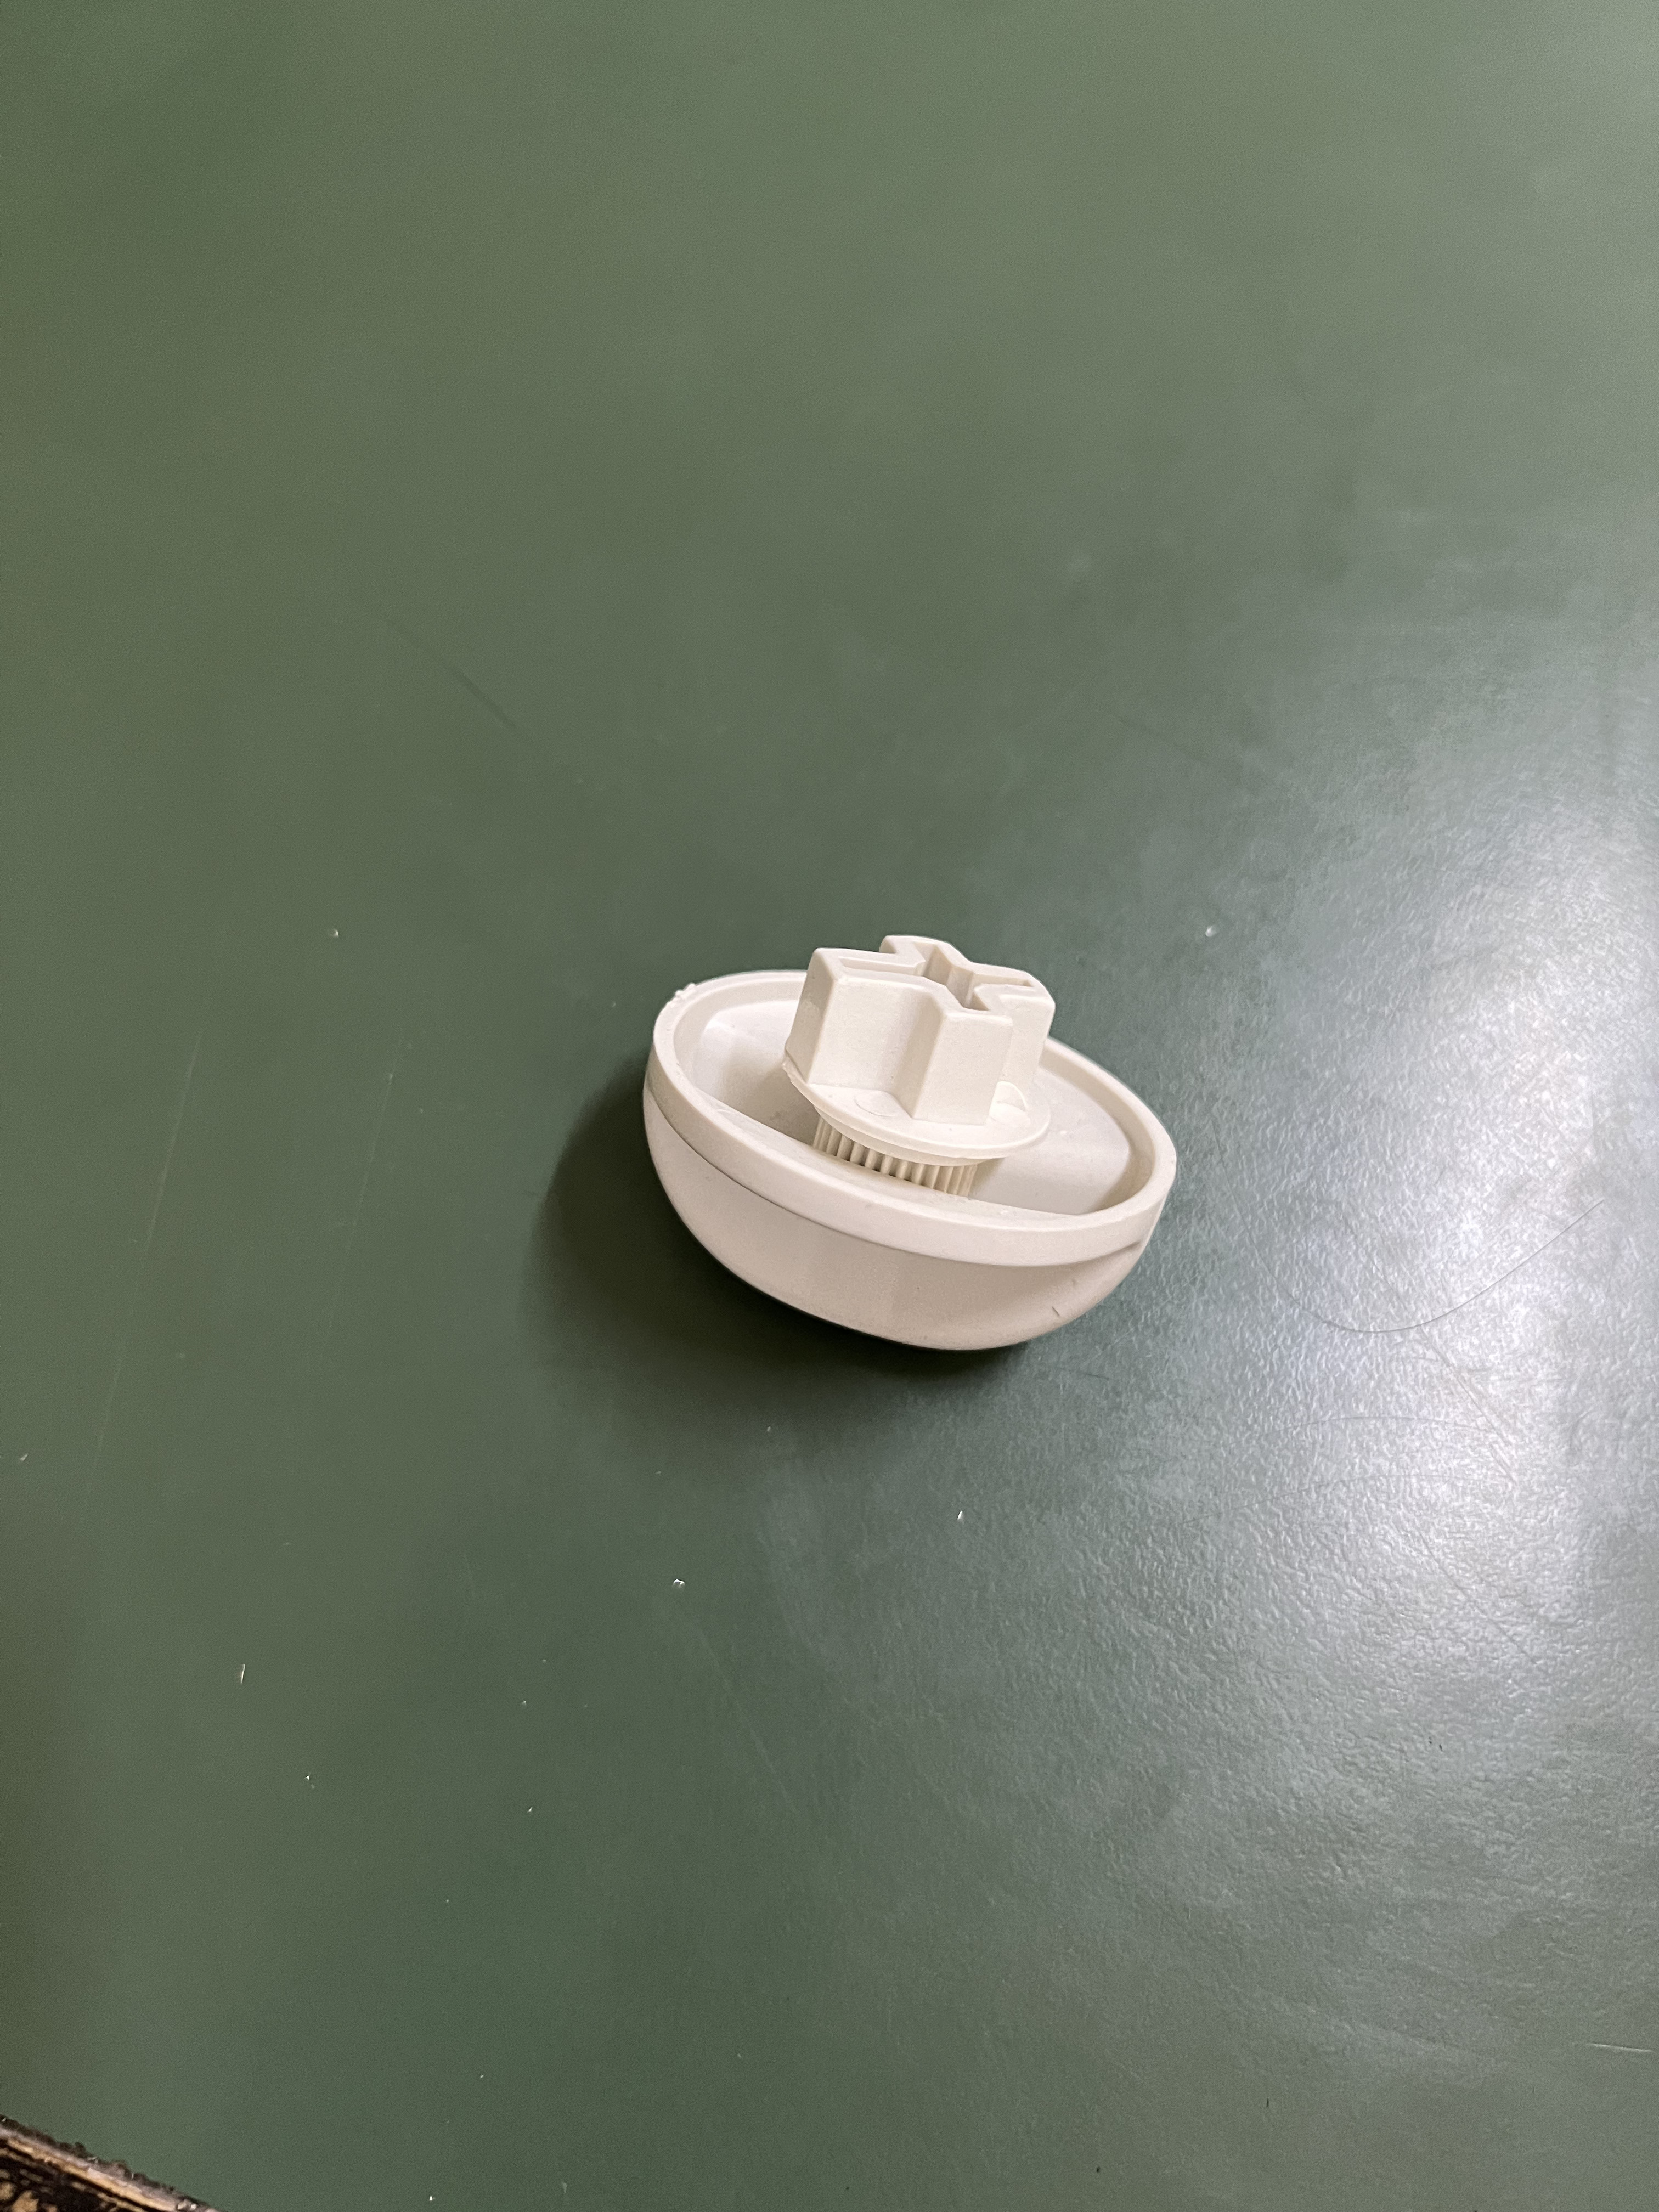regulator: (638, 932, 1171, 1359)
